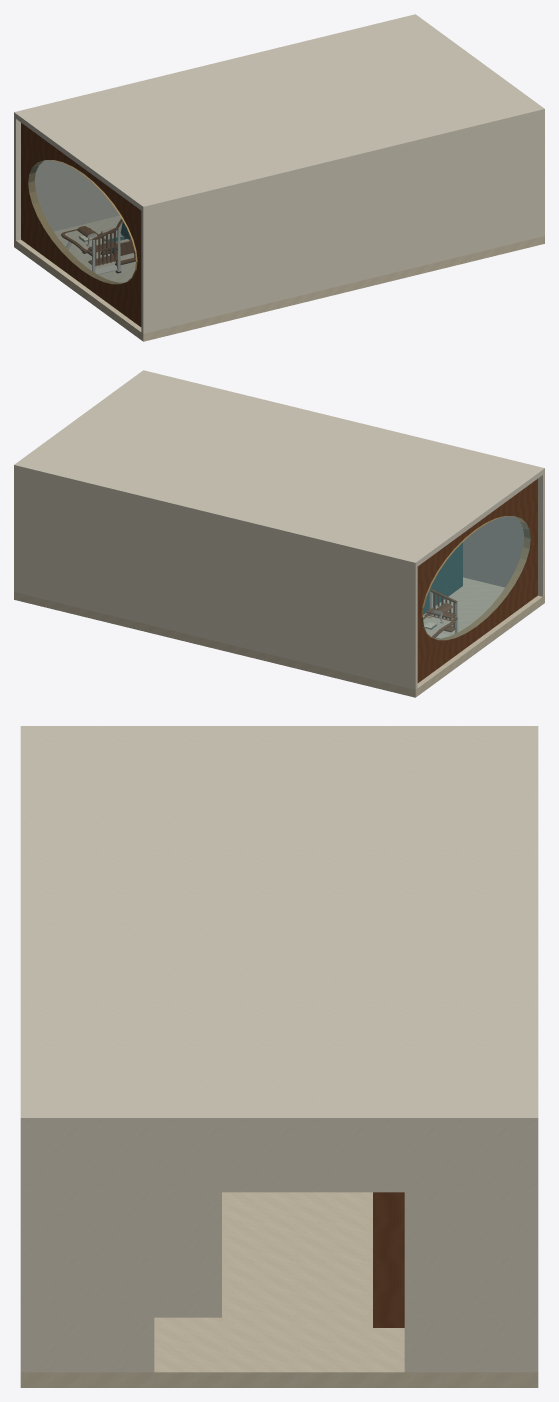
The model's file is QuietGroveSpecialty_397_r002.glb.
3 renders of one model, top to bottom at view 1: azimuth 30°, elevation 25°; view 2: azimuth 150°, elevation 25°; view 3: azimuth 270°, elevation 25°, orthographic. The views are drawn at different scales.
Parts seen in each view (by area): view 1: QG397_Ceiling, QG397_SouthSide, QG397_OvalAtriumGlass, QG397_RoomFloor, QG397_OvalWindowReveal, QG397_NorthSide, QG397_OvalDepthReturn; view 2: QG397_Ceiling, QG397_NorthSide, QG397_OvalAtriumGlass, QG397_RoomFloor, QG397_OvalWindowReveal, QG397_SouthSide, QG397_OvalDepthReturn, QG397_Cocoon02_RearLiner; view 3: QG397_Ceiling, QG397_RoomFloor, QG397_EntryShoulderNorth, QG397_EntryShoulderSouth, QG397_EntryHeader, QG397_WashEntrySide, QG397_EntryPrivacyDogleg, QG397_NorthSide, QG397_SouthSide.
Boxes of the visible parts, <box> form: QG397_Ceiling: <box>14,14,544,211</box>; QG397_SouthSide: <box>141,114,544,333</box>; QG397_OvalAtriumGlass: <box>28,160,135,283</box>; QG397_RoomFloor: <box>14,215,544,341</box>; QG397_OvalWindowReveal: <box>21,123,141,326</box>; QG397_NorthSide: <box>14,117,119,240</box>; QG397_OvalDepthReturn: <box>28,160,137,284</box>; QG397_Ceiling: <box>14,370,544,567</box>; QG397_NorthSide: <box>14,470,417,689</box>; QG397_OvalAtriumGlass: <box>423,516,530,639</box>; QG397_RoomFloor: <box>14,577,544,697</box>; QG397_OvalWindowReveal: <box>417,479,537,682</box>; QG397_SouthSide: <box>463,473,544,596</box>; QG397_OvalDepthReturn: <box>421,516,530,640</box>; QG397_Cocoon02_RearLiner: <box>423,544,461,614</box>; QG397_Ceiling: <box>20,726,538,1128</box>; QG397_RoomFloor: <box>20,1192,538,1387</box>; QG397_EntryShoulderNorth: <box>404,1128,529,1372</box>; QG397_EntryShoulderSouth: <box>29,1128,154,1372</box>; QG397_EntryHeader: <box>150,1128,408,1192</box>; QG397_WashEntrySide: <box>154,1192,221,1317</box>; QG397_EntryPrivacyDogleg: <box>373,1192,404,1327</box>; QG397_NorthSide: <box>529,1128,538,1372</box>; QG397_SouthSide: <box>20,1128,29,1372</box>.
Bounding box in the file's own units: 12.9 × 4.14 × 7.2.
Materials: 67 (43 with a texture image).
